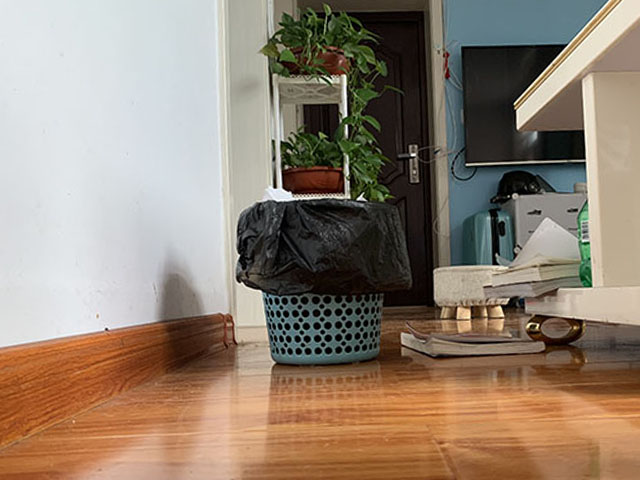book: (398, 320, 549, 360)
stool: (430, 262, 514, 321)
trashcan: (234, 197, 414, 368)
